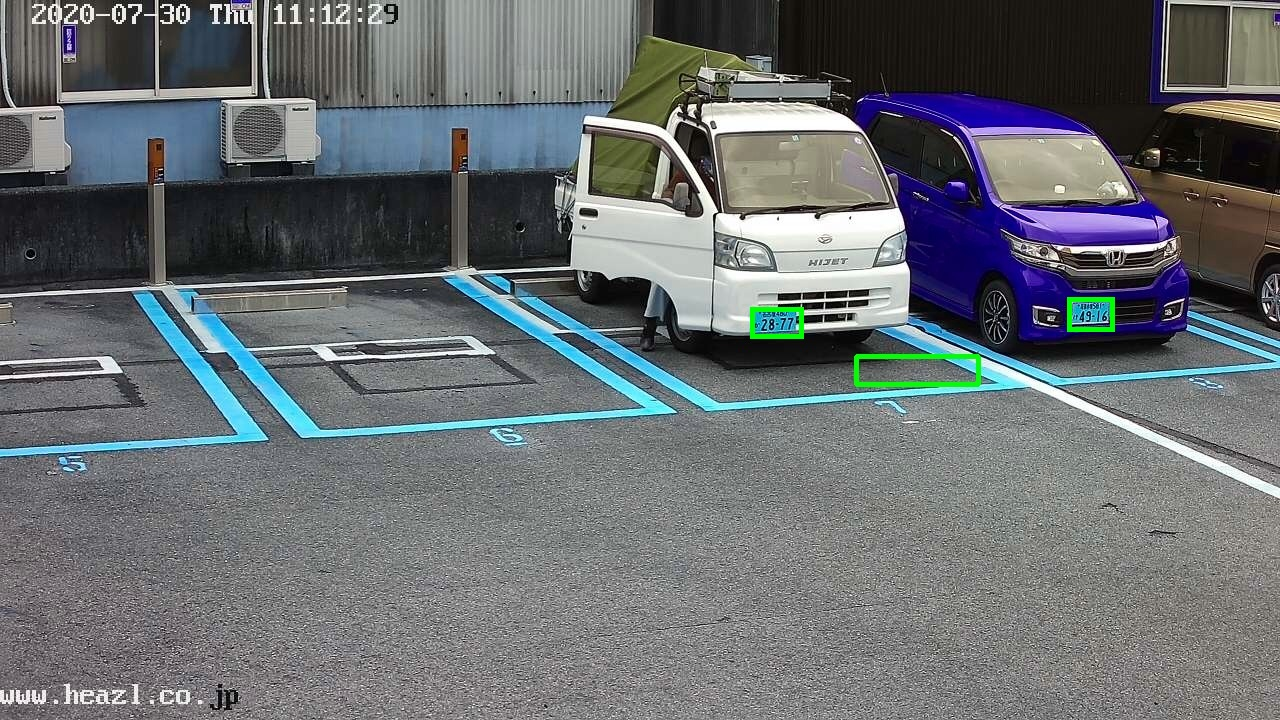number_plate: (753, 308, 799, 335), (1072, 299, 1113, 326)
